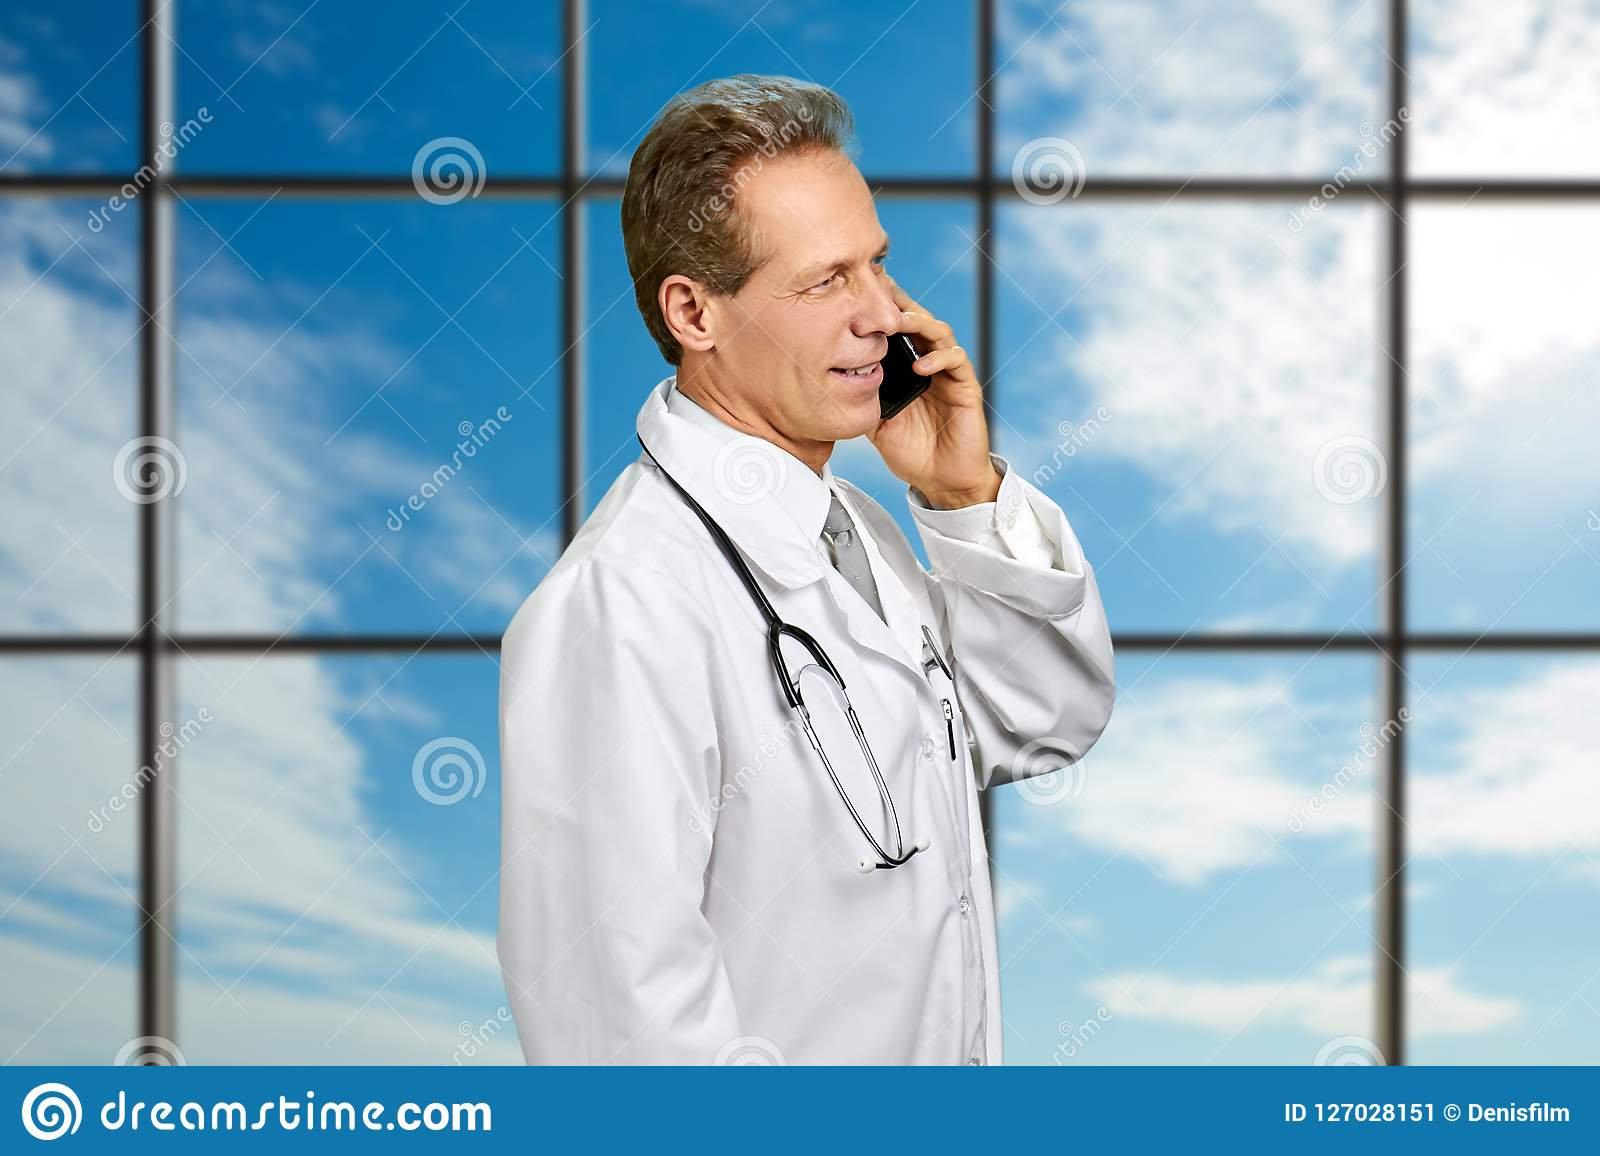talk: (788, 238, 996, 507)
